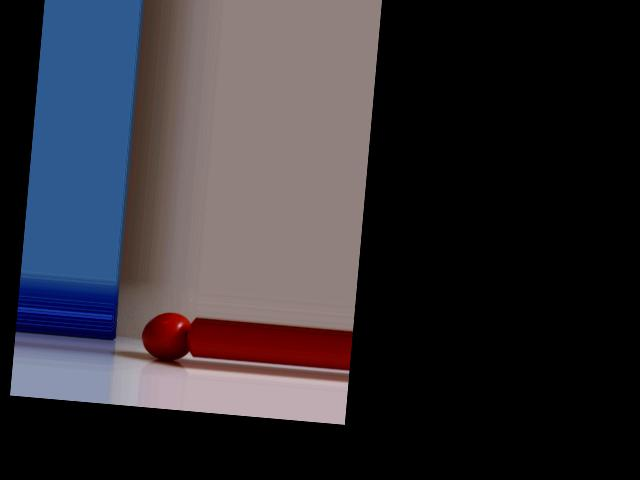tomato: (140, 310, 191, 362)
